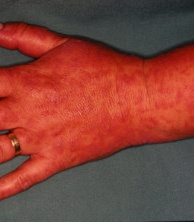SJS-TEN: (8, 10, 194, 181)
